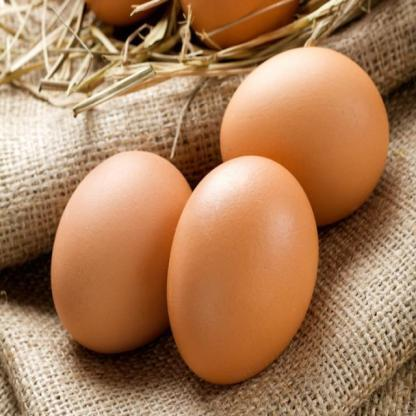egg: (132, 148, 347, 382), (210, 19, 398, 242), (43, 126, 202, 362)
